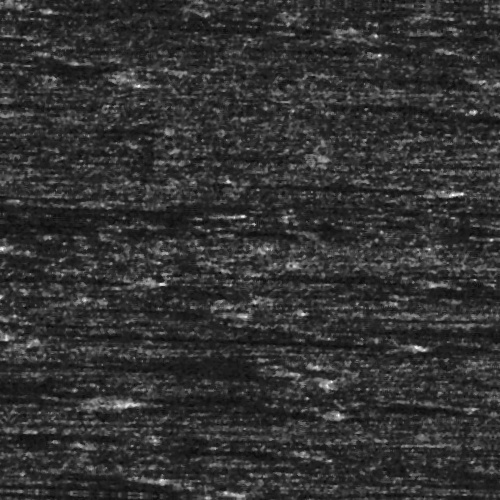object: (182, 484, 275, 497), (425, 66, 498, 77), (376, 334, 449, 343), (409, 180, 472, 187), (197, 210, 250, 217), (366, 496, 439, 500), (257, 365, 298, 372)
shadow: (53, 484, 228, 497), (163, 334, 412, 343), (296, 66, 462, 77), (19, 365, 278, 372), (193, 180, 440, 187), (64, 496, 403, 500), (52, 210, 224, 217), (399, 321, 500, 328), (468, 200, 500, 205)
